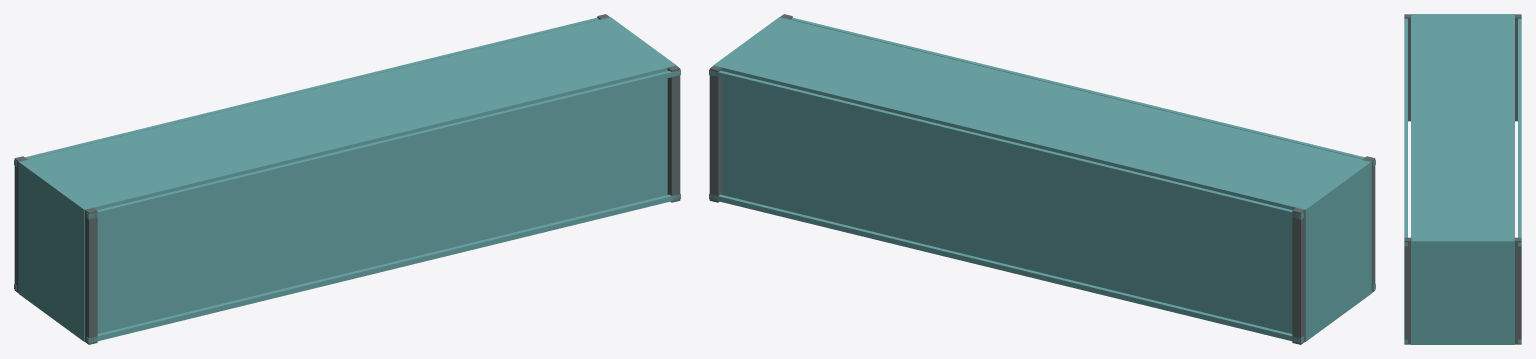
3 renders of one model, left to right at view 1: azimuth 30°, elevation 25°; view 2: azimuth 150°, elevation 25°; view 3: azimuth 270°, elevation 25°, orthographic. The views are drawn at different scales.
Size of the model in its own units: 12.2 by 2.6 by 2.66.
